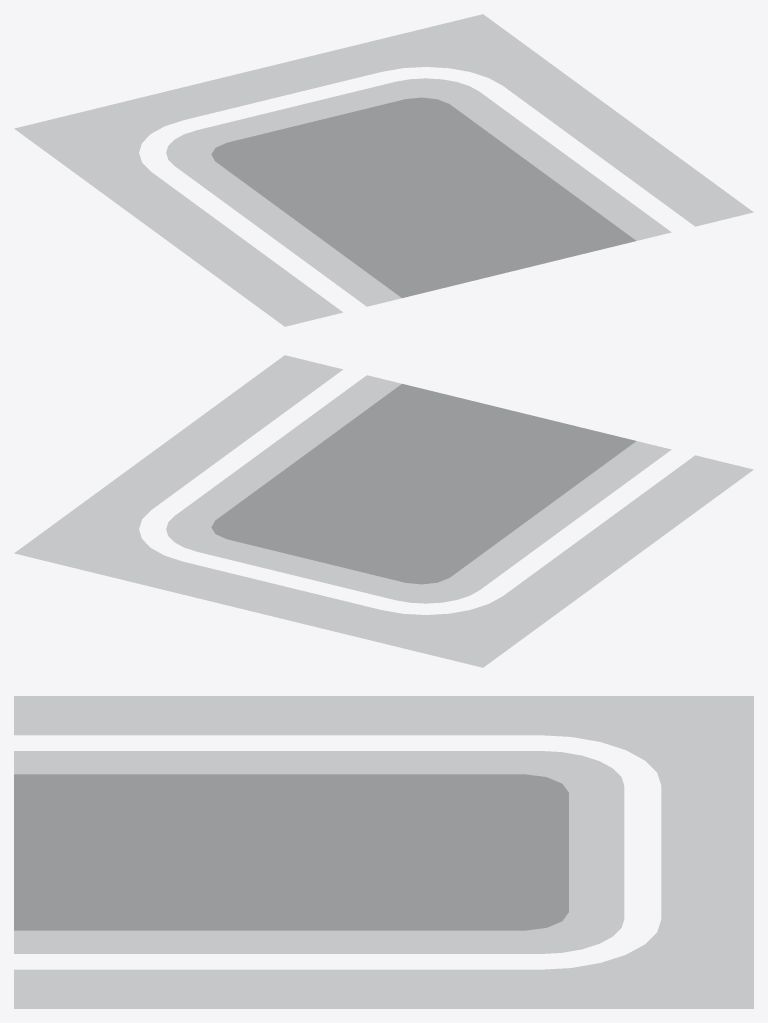
The model's file is Ceiling_type_A_020.glb.
3 renders of one model, top to bottom at view 1: azimuth 30°, elevation 25°; view 2: azimuth 150°, elevation 25°; view 3: azimuth 270°, elevation 25°, orthographic. The views are drawn at different scales.
Visible parts, largest first — view 1: Ceiling_type_A_020; view 2: Ceiling_type_A_020; view 3: Ceiling_type_A_020.
Boxes of the visible parts, x1,y1,x2,y2 form: Ceiling_type_A_020: [14, 14, 753, 326]; Ceiling_type_A_020: [14, 355, 753, 667]; Ceiling_type_A_020: [14, 696, 753, 1008].
Size of the model in its own units: 4 by 0.0571 by 4.
2 materials, 2 textured.
